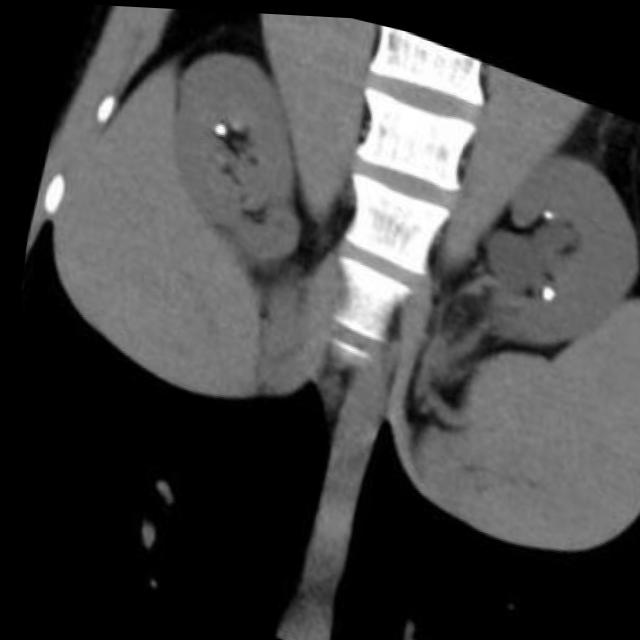Tas_Var: (203, 113, 233, 144), (530, 274, 560, 305), (535, 200, 557, 222)
